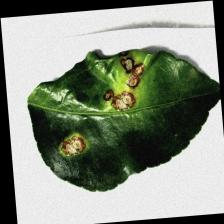canker: (52, 54, 151, 160)
